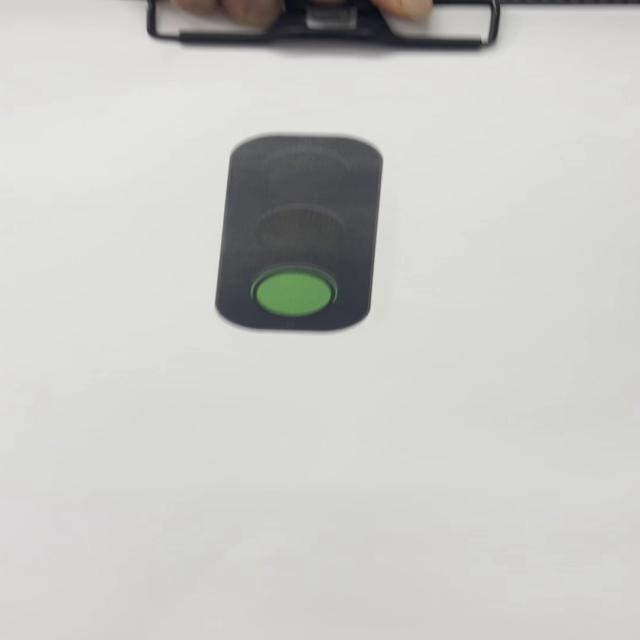green: (219, 133, 385, 334)
